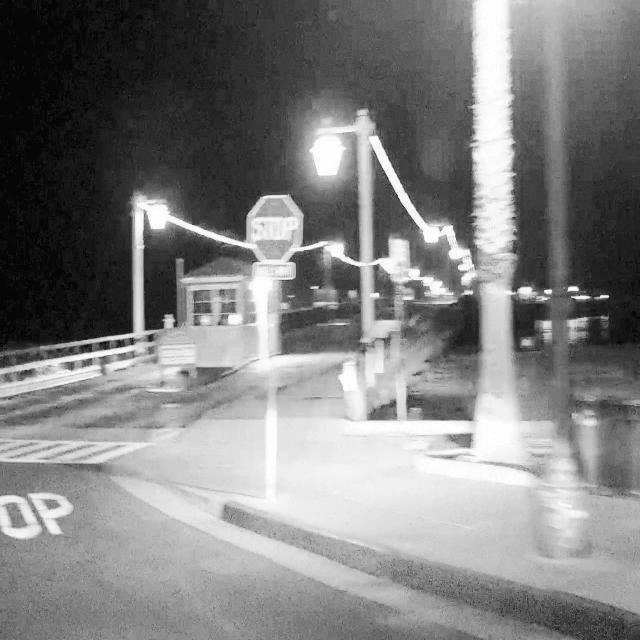Sign: (246, 195, 304, 263), (253, 262, 297, 280)
